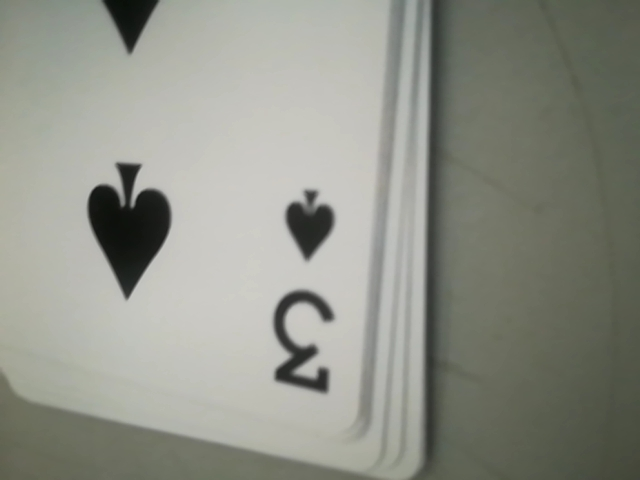ht 3: (275, 161, 345, 438)
